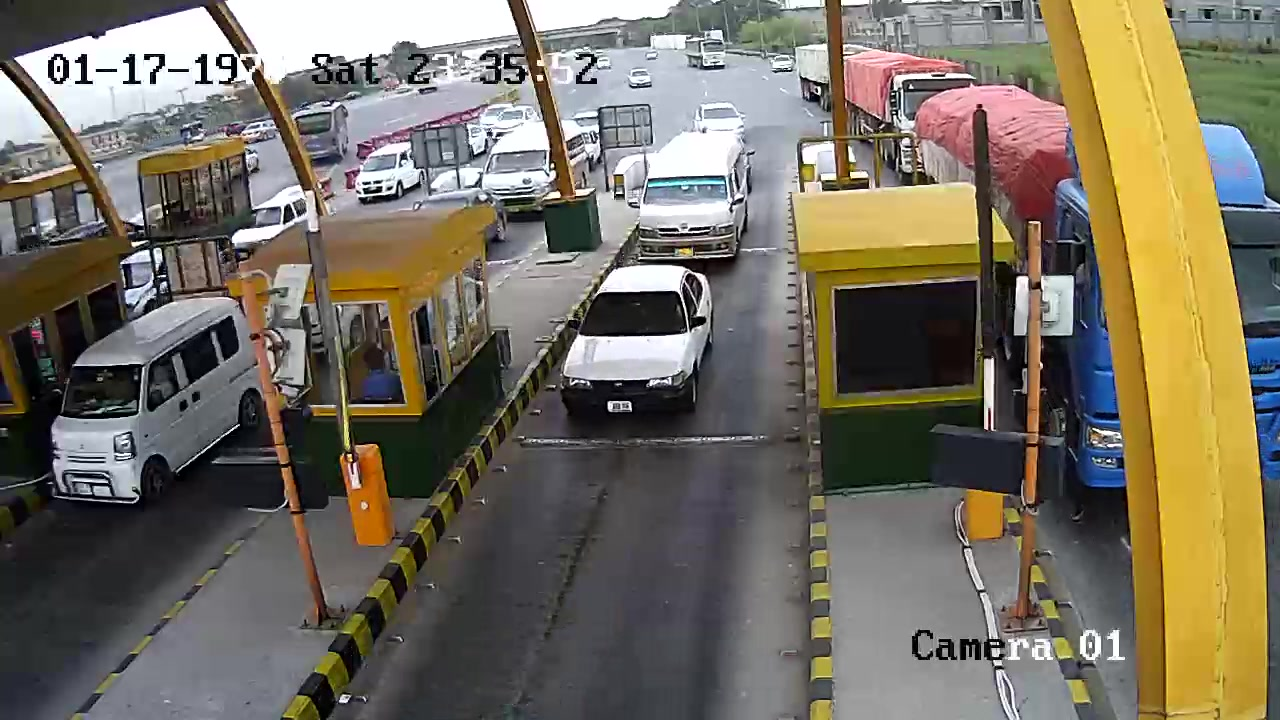F1: (556, 264, 715, 429)
